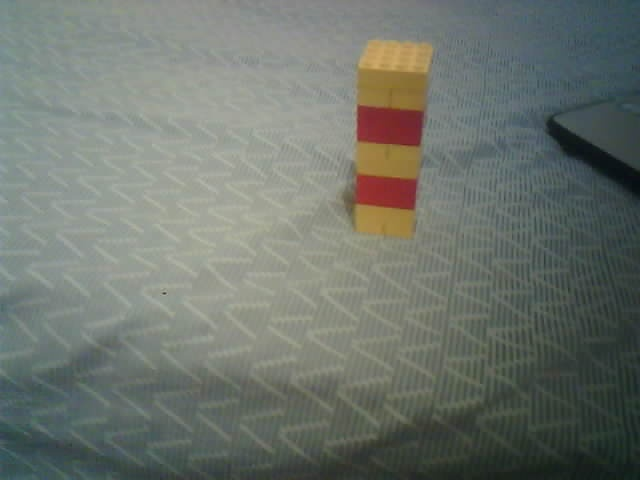lego: (352, 38, 434, 239)
